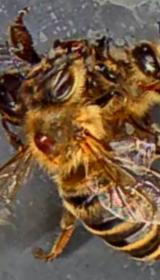varroa_mite: (28, 126, 56, 154)
